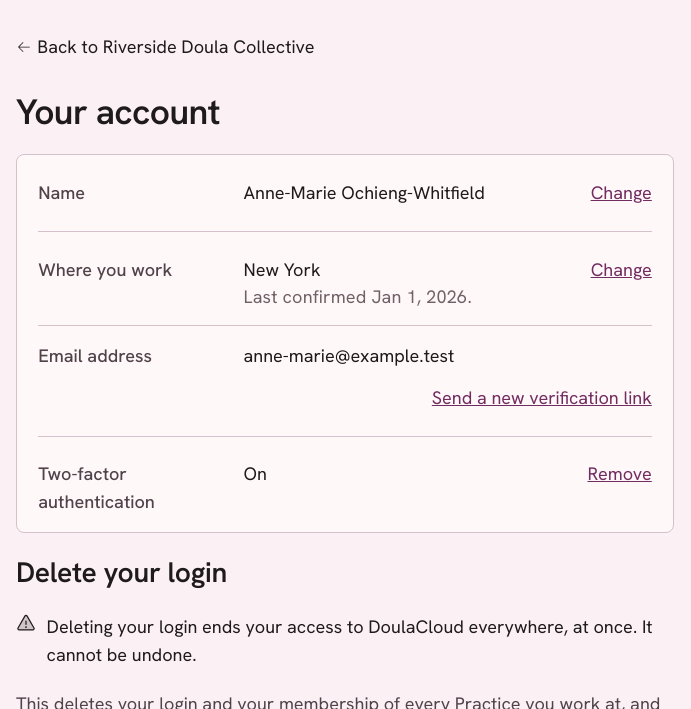
Test: removing a second factor (#606) › shows a wrong password as a step-up refusal
Click the button "Remove": [620, 474] box [588,452,652,496]
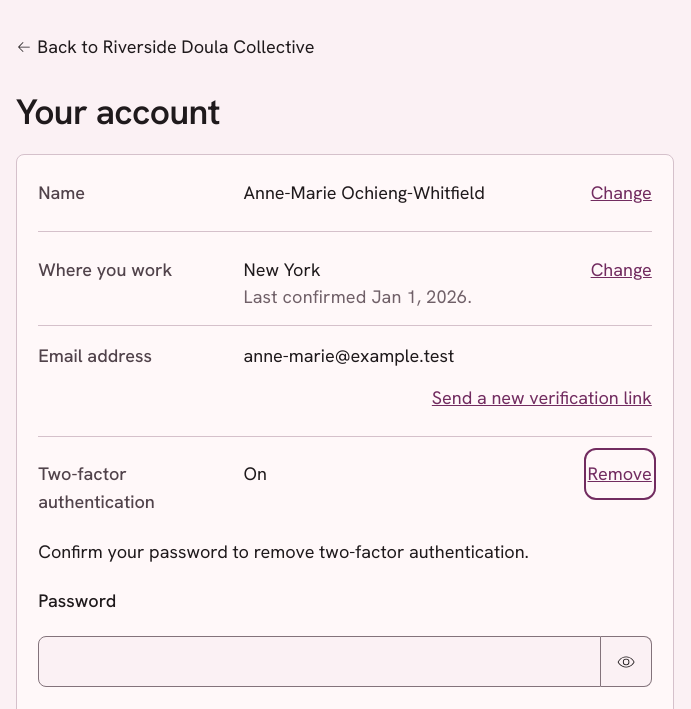
Expected: the password field labelled "Password" is shown
In the password field labelled "Password": [319, 662] box [38,636,601,687], type "wrong"
(page scrolled)
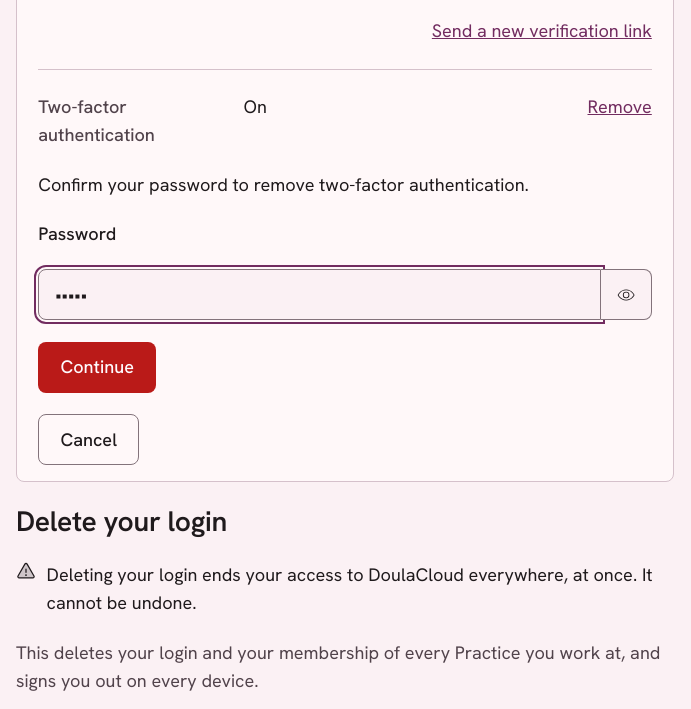
Click the button "Continue": [97, 367] box [38,342,156,393]
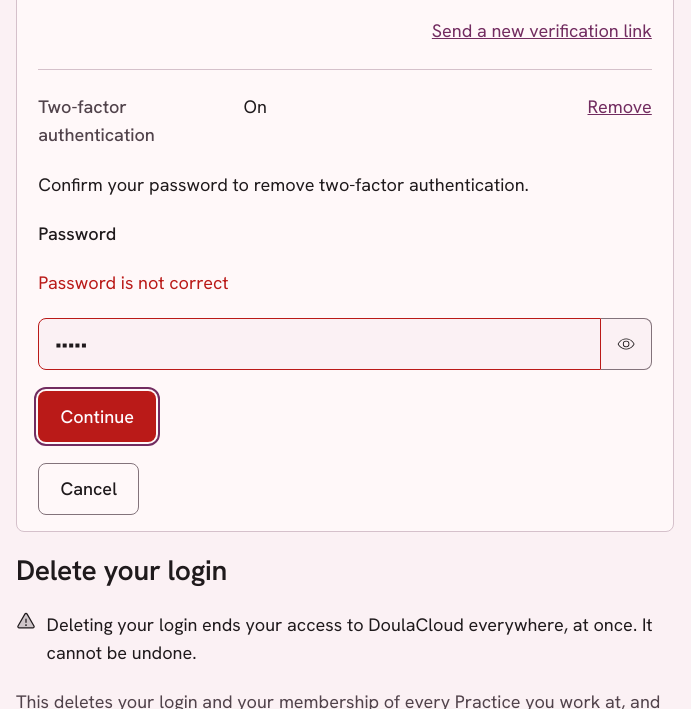
Expected: the message "Password is not correct" is shown, [38,271,228,294]
